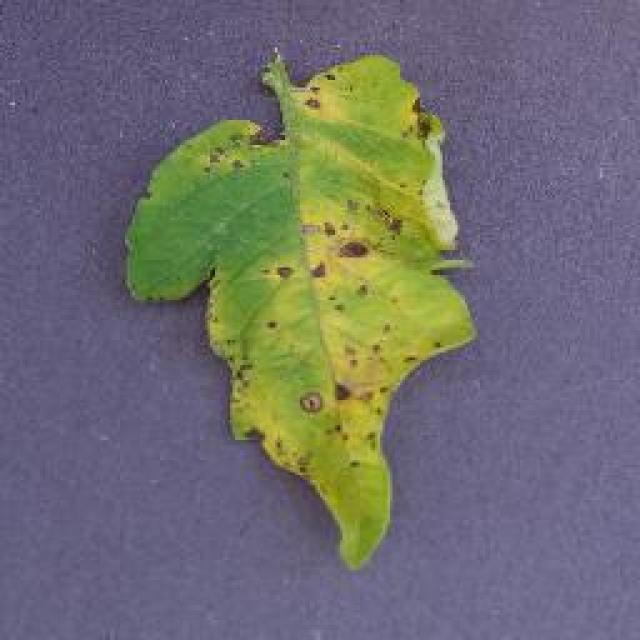Tomato___Septoria_leaf_spot: (125, 52, 472, 565)
